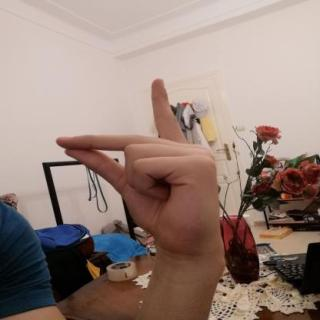TAA: (45, 70, 234, 264)
